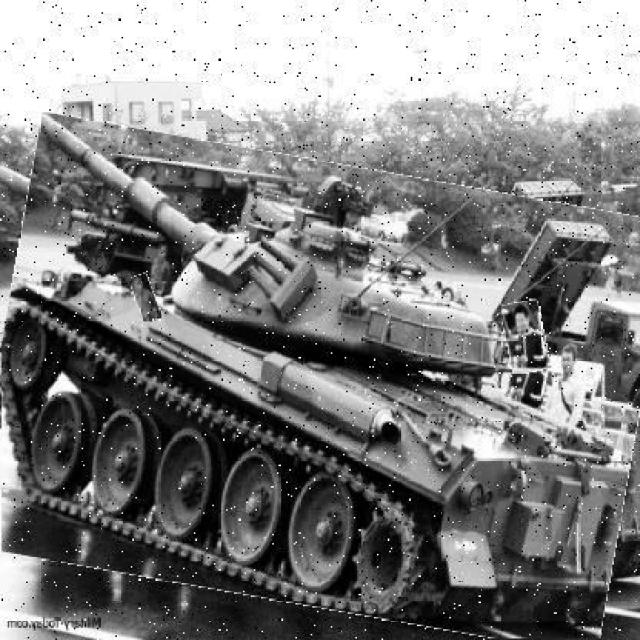Person: (543, 300, 592, 386), (504, 301, 549, 375), (134, 275, 160, 322)
Tank: (3, 140, 640, 634)
